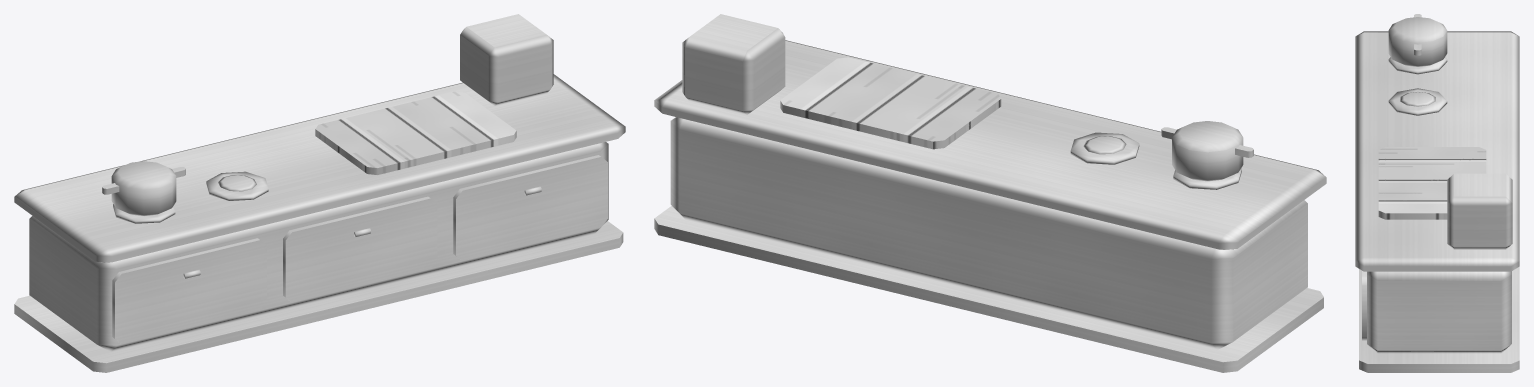
The model's file is bench_stove.obj.
3 renders of one model, left to right at view 1: azimuth 30°, elevation 25°; view 2: azimuth 150°, elevation 25°; view 3: azimuth 270°, elevation 25°, orthographic. The views are drawn at different scales.
Parts seen in each view (by area): view 1: flat_worktop, cabinet_body, toe_plinth, front_door_3, front_door_1, front_door_2, cutting_board, rear_utensil_box, cooking_pot, right_burner_base, left_burner_base, right_heating_ring; view 2: cabinet_body, flat_worktop, toe_plinth, cutting_board, rear_utensil_box, cooking_pot, right_burner_base, left_burner_base, right_heating_ring; view 3: flat_worktop, cabinet_body, cutting_board, rear_utensil_box, toe_plinth, cooking_pot, right_burner_base, left_burner_base, right_heating_ring, front_door_3.
Boxes of the visible parts, box(x1,y1,x2,y2) form: flat_worktop: box(14, 74, 625, 262); cabinet_body: box(29, 142, 608, 351); toe_plinth: box(14, 221, 623, 372); front_door_3: box(453, 155, 607, 260); front_door_1: box(112, 238, 266, 344); front_door_2: box(283, 196, 437, 302); cutting_board: box(315, 91, 516, 174); rear_utensil_box: box(460, 14, 553, 105); cooking_pot: box(111, 161, 176, 215); right_burner_base: box(206, 171, 268, 200); left_burner_base: box(113, 204, 175, 223); right_heating_ring: box(218, 175, 256, 191); cabinet_body: box(670, 117, 1307, 349); flat_worktop: box(654, 40, 1326, 249); toe_plinth: box(654, 206, 1323, 372); cutting_board: box(780, 57, 1001, 149); rear_utensil_box: box(682, 14, 785, 115); cooking_pot: box(1172, 121, 1243, 181); right_burner_base: box(1070, 132, 1139, 164); left_burner_base: box(1173, 168, 1241, 189); right_heating_ring: box(1083, 136, 1126, 154); flat_worktop: box(1355, 31, 1519, 271); cabinet_body: box(1367, 271, 1511, 353); cutting_board: box(1378, 147, 1486, 219); rear_utensil_box: box(1447, 173, 1512, 249); toe_plinth: box(1359, 266, 1519, 372); cooking_pot: box(1388, 17, 1447, 66); right_burner_base: box(1388, 88, 1447, 115); left_burner_base: box(1388, 57, 1447, 74); right_heating_ring: box(1400, 92, 1435, 106); front_door_3: box(1362, 271, 1366, 340).
Size of the model in its own units: 2.84 by 0.92 by 0.84.
